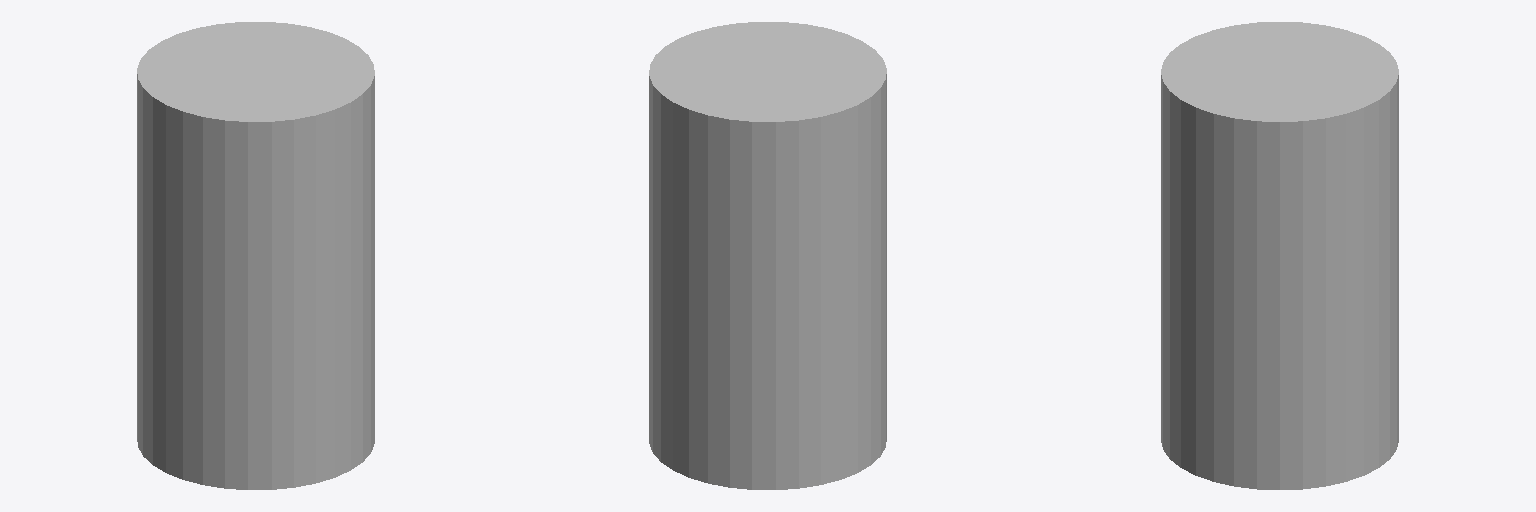
File: barril.obj
The picture shows the model from 3 angles: view 1: azimuth 30°, elevation 25°; view 2: azimuth 150°, elevation 25°; view 3: azimuth 270°, elevation 25°; orthographic projection.
Parts seen in each view (by area): view 1: Cylinder_Cylinder.001; view 2: Cylinder_Cylinder.001; view 3: Cylinder_Cylinder.001.
Boxes of the visible parts, <box> form: Cylinder_Cylinder.001: <box>137,22,374,489</box>; Cylinder_Cylinder.001: <box>649,22,886,489</box>; Cylinder_Cylinder.001: <box>1161,22,1398,489</box>.
Size of the model in its own units: 2 by 3.41 by 2.